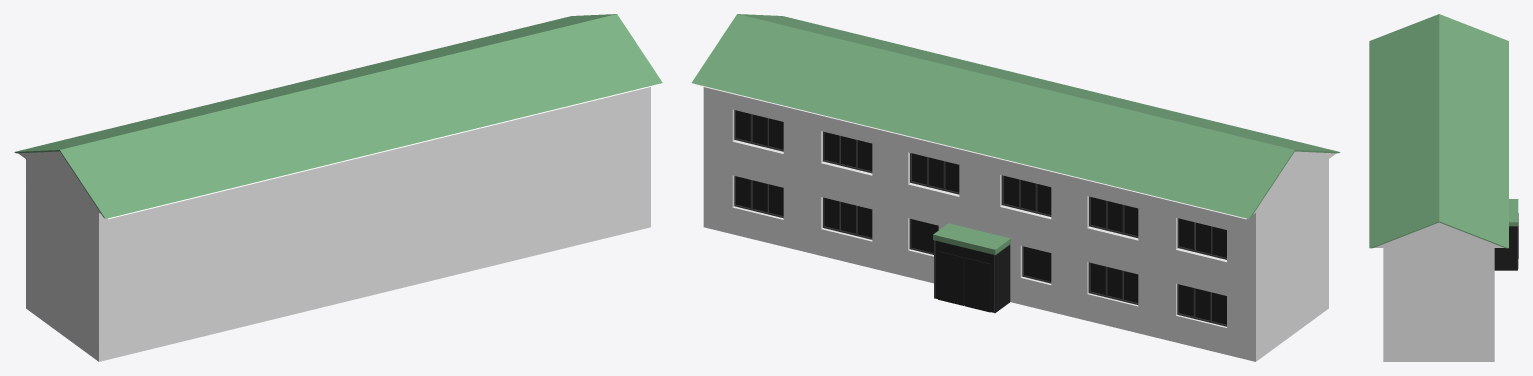
File: hakgun.fbx
The picture shows the model from 3 angles, left to right: view 1: azimuth 30°, elevation 25°; view 2: azimuth 150°, elevation 25°; view 3: azimuth 270°, elevation 25°; orthographic projection. The views are drawn at different scales.
Visible parts, largest first — view 1: Box001, Gengon003, Gengon001; view 2: Box001, Gengon003, Gengon001, Box044, Box042, Box023, Box025, Box019, Box021, Box026, Box028, Box047 (+7 smaller); view 3: Gengon003, Box001, Gengon001, Box044, Box042.
Boxes of the visible parts, bbox=[...] form: Box001: bbox=[26, 87, 650, 361]; Gengon003: bbox=[14, 14, 662, 218]; Gengon001: bbox=[18, 84, 659, 219]; Box001: bbox=[703, 87, 1328, 361]; Gengon003: bbox=[691, 14, 1340, 218]; Gengon001: bbox=[694, 84, 1336, 219]; Box044: bbox=[935, 240, 1010, 312]; Box042: bbox=[933, 223, 1010, 254]; Box023: bbox=[1178, 284, 1226, 324]; Box025: bbox=[1090, 263, 1138, 302]; Box019: bbox=[735, 176, 783, 216]; Box021: bbox=[824, 198, 872, 237]; Box026: bbox=[735, 110, 783, 149]; Box028: bbox=[824, 132, 872, 171]; Box047: bbox=[964, 257, 990, 312]; Gengon003: bbox=[1369, 14, 1508, 248]; Box001: bbox=[1383, 247, 1494, 361]; Gengon001: bbox=[1374, 222, 1503, 247]; Box044: bbox=[1494, 226, 1517, 270]; Box042: bbox=[1509, 199, 1518, 226].
Size of the model in its own units: 545 by 166 by 174.
